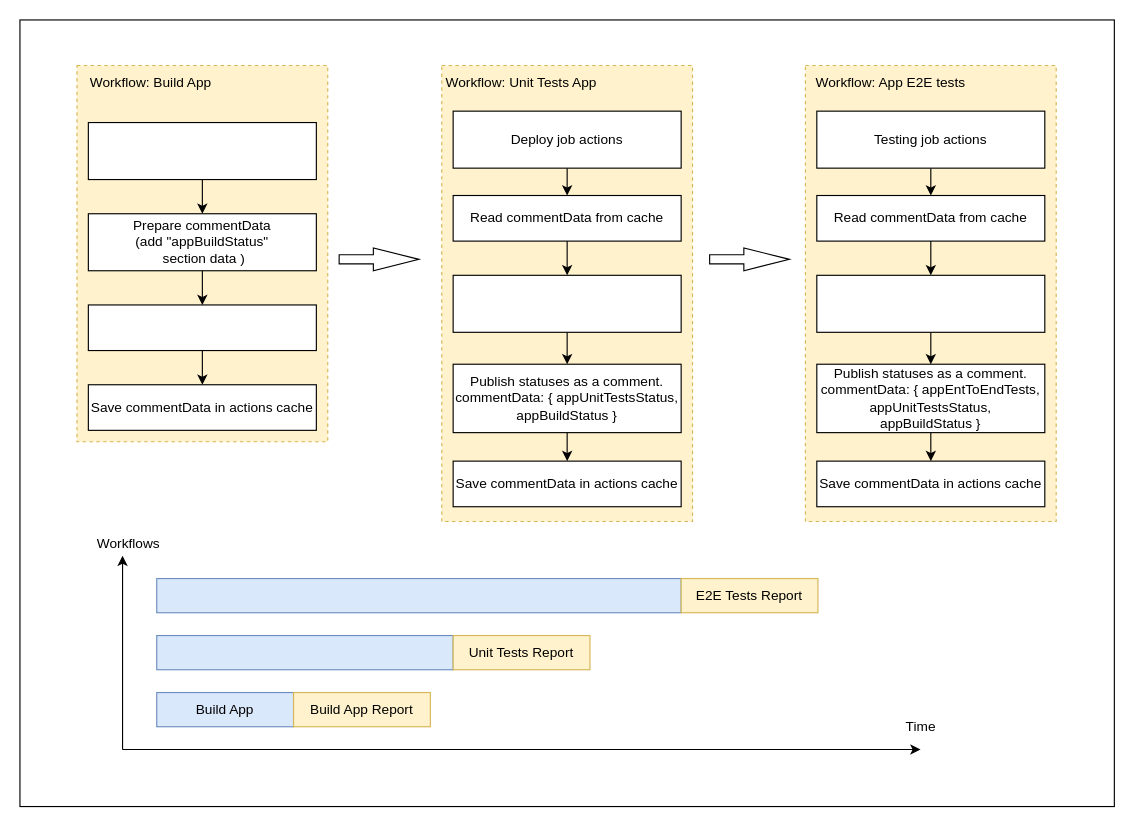
The diagram is 1134 pixels wide and 827 high, and some of its shapes have lost their labels. The shapes that lost their labels are listed below. From the top down, each one's centre as x and y in pixels, then its label:
(201,150): Build job actions
(566,303): Prepare commentData (add "appUnitTestsStatus" section data )
(930,303): Prepare commentData (add "appEntToEndTests" section data )
(201,327): Publish statuses as a comment. commentData: { appBuildStatus }
(418,595): E2E Tests app
(304,652): Unit Tests app
